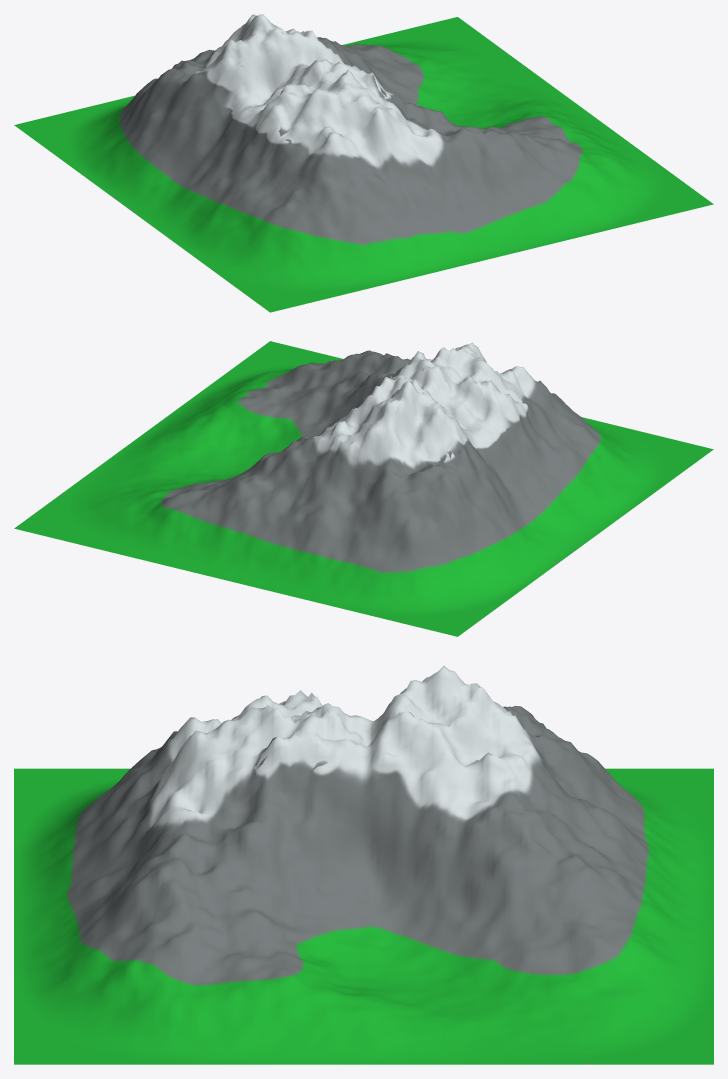
The model's file is mtn.fbx.
3 views of the same model, one above another, from view 1: azimuth 30°, elevation 25°; view 2: azimuth 150°, elevation 25°; view 3: azimuth 270°, elevation 25° (orthographic). The views are drawn at different scales.
Visible parts, largest first — view 1: Landscape.005; view 2: Landscape.005; view 3: Landscape.005.
Part boxes in pixels (left/top/right/bottom): Landscape.005: left=14, top=14, right=713, bottom=312; Landscape.005: left=14, top=341, right=713, bottom=636; Landscape.005: left=14, top=666, right=713, bottom=1064.
Size of the model in its own units: 200 by 63.38 by 200.
1 material, 1 textured.
